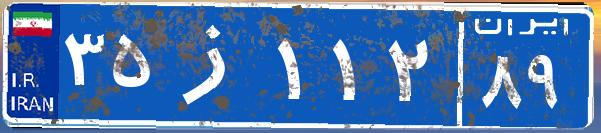1: (273, 28, 330, 110), (330, 28, 385, 110)
2: (385, 28, 445, 110)
3: (57, 26, 110, 107)
5: (110, 28, 158, 105)
8: (475, 38, 525, 113)
9: (525, 38, 570, 115)
ز: (158, 15, 273, 115)
